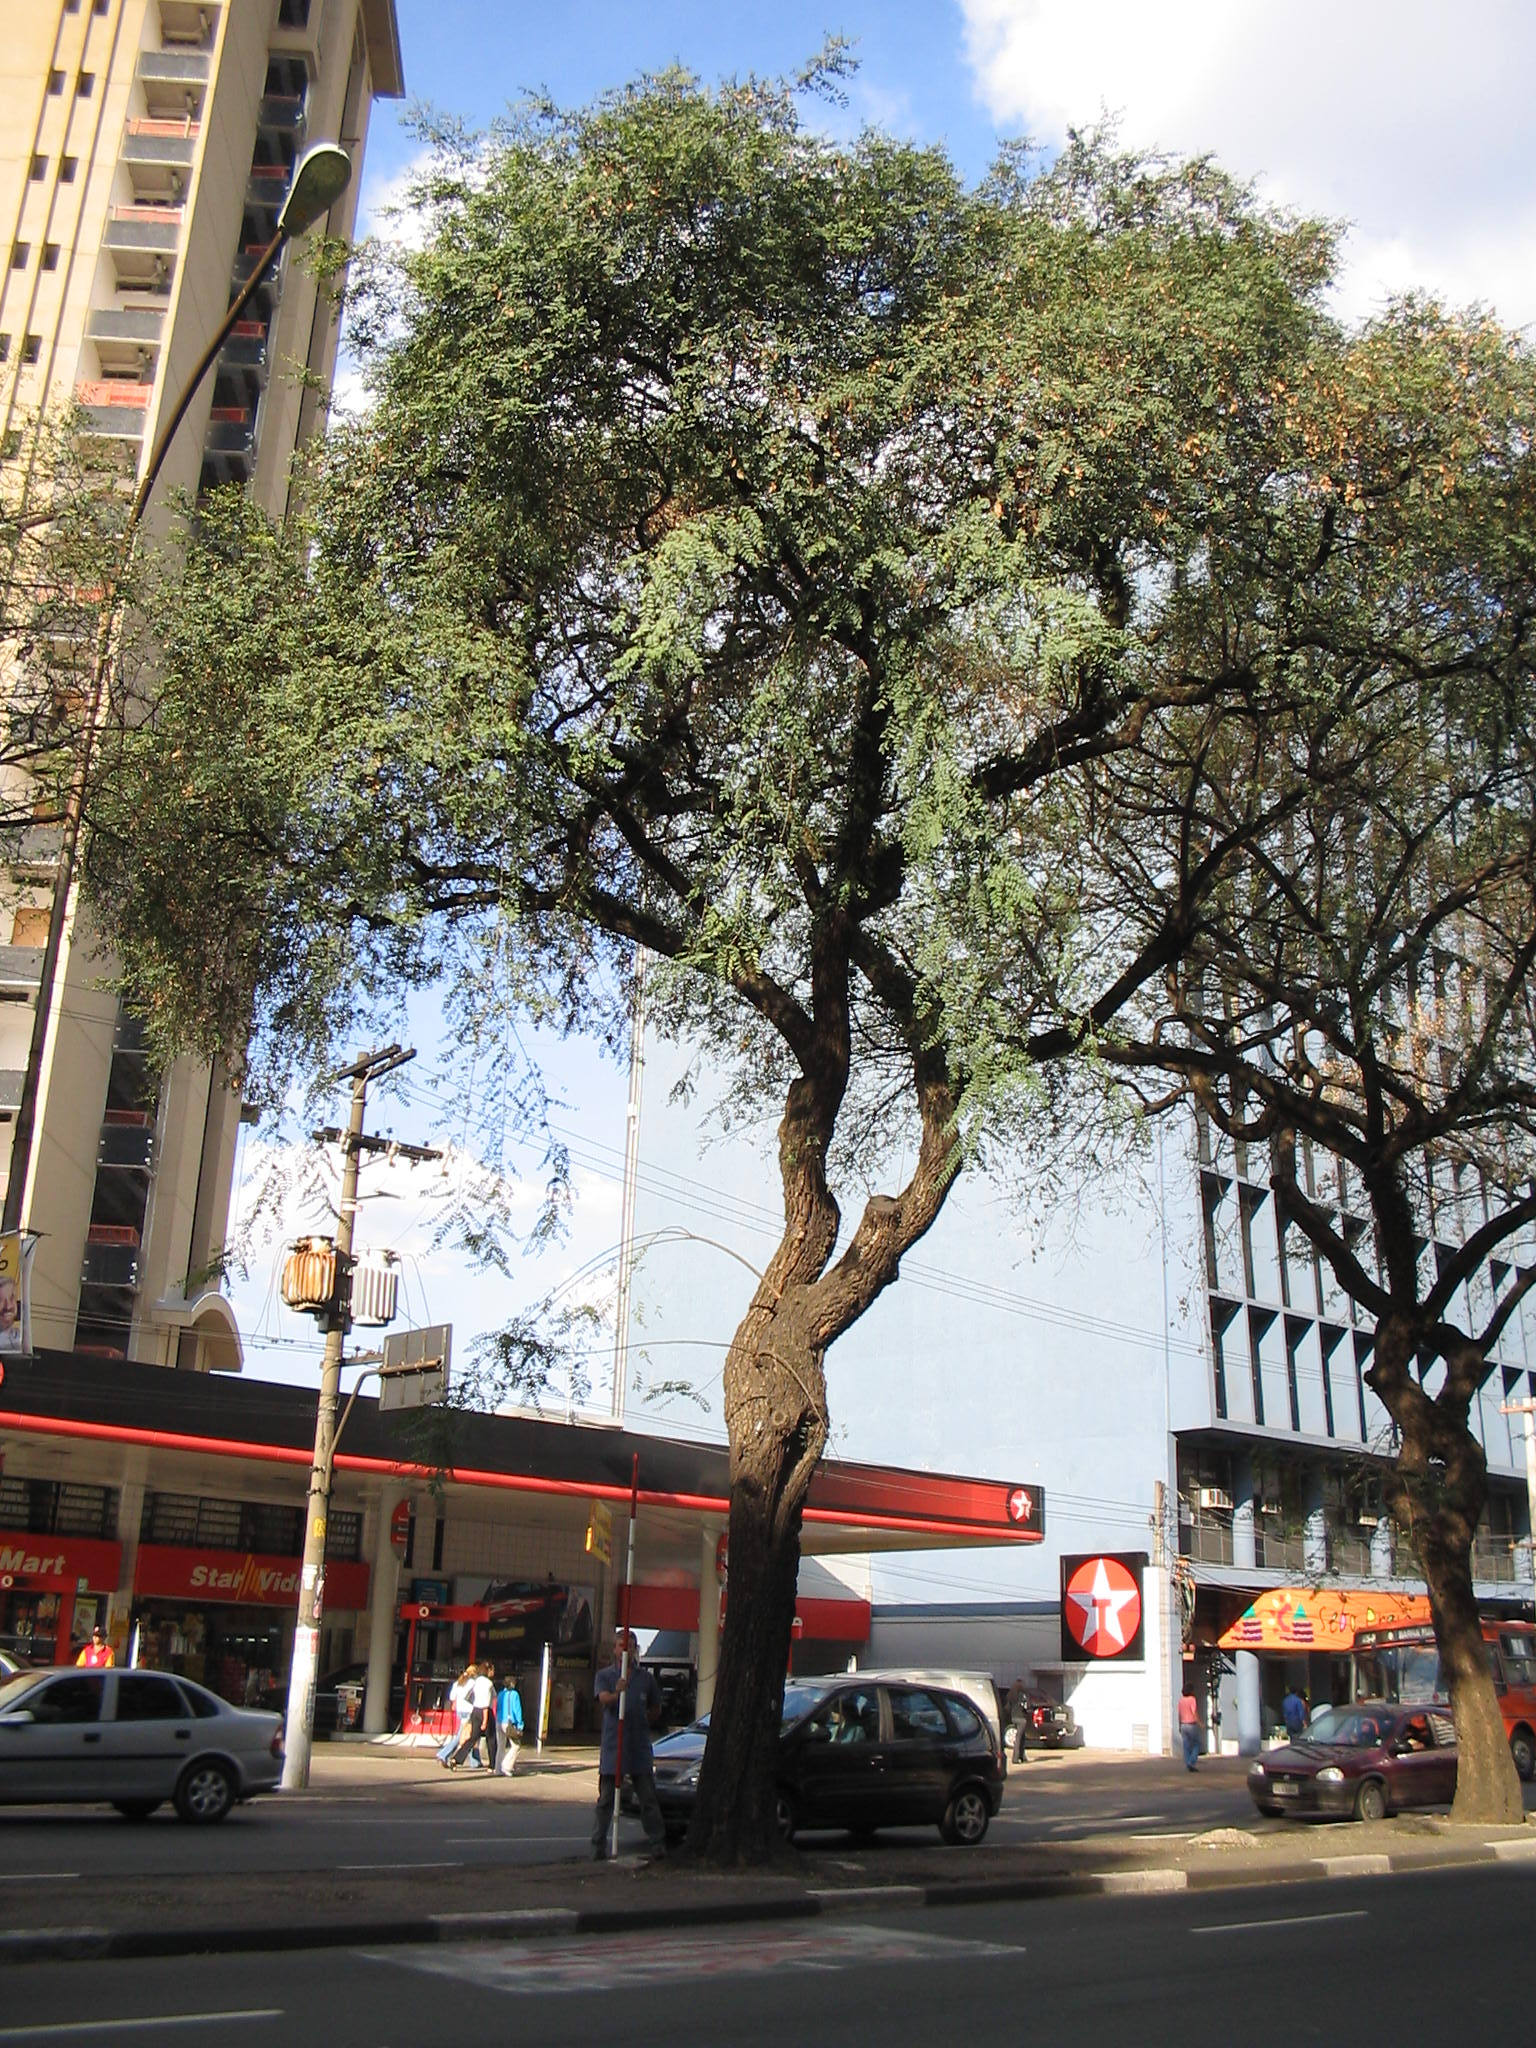crown: (110, 42, 1312, 1158)
stem: (671, 1313, 862, 1866), (1363, 1526, 1536, 1830)
stick: (594, 1450, 650, 1858)
tree: (103, 37, 1320, 1863), (1083, 276, 1536, 1830)
